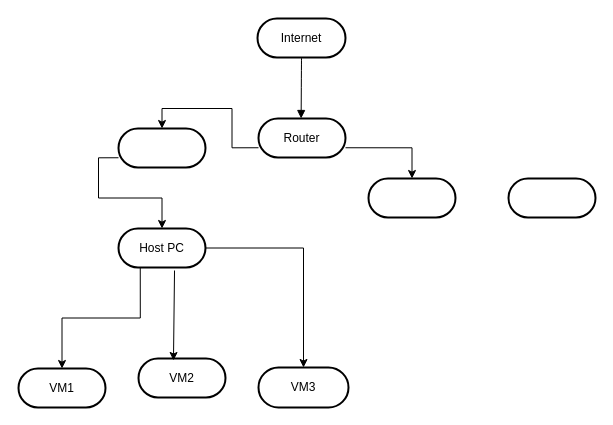
The diagram is 613 pixels wide and 425 high, and some of its shapes have lost their labels. The centre of each missing label's shape, as x and y in pixels:
"Firewall" goes at (x=161, y=147).
"IoT phone" goes at (x=551, y=197).
"NAS" goes at (x=411, y=197).
